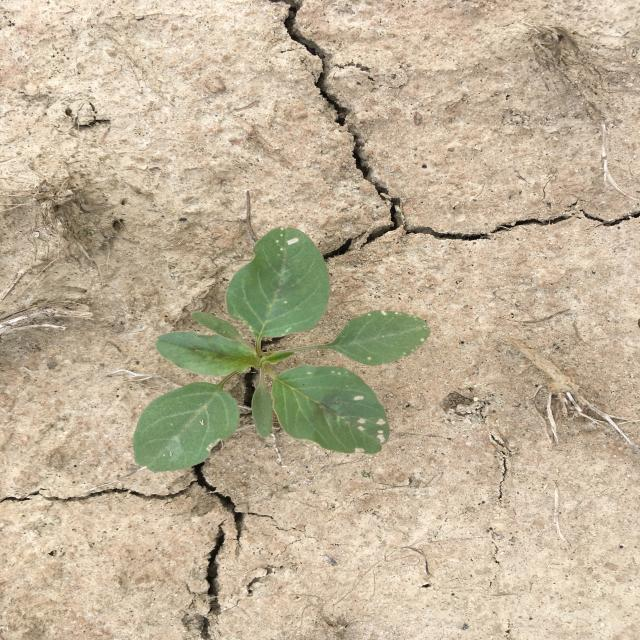PalmerAmaranth: (132, 227, 430, 472)
